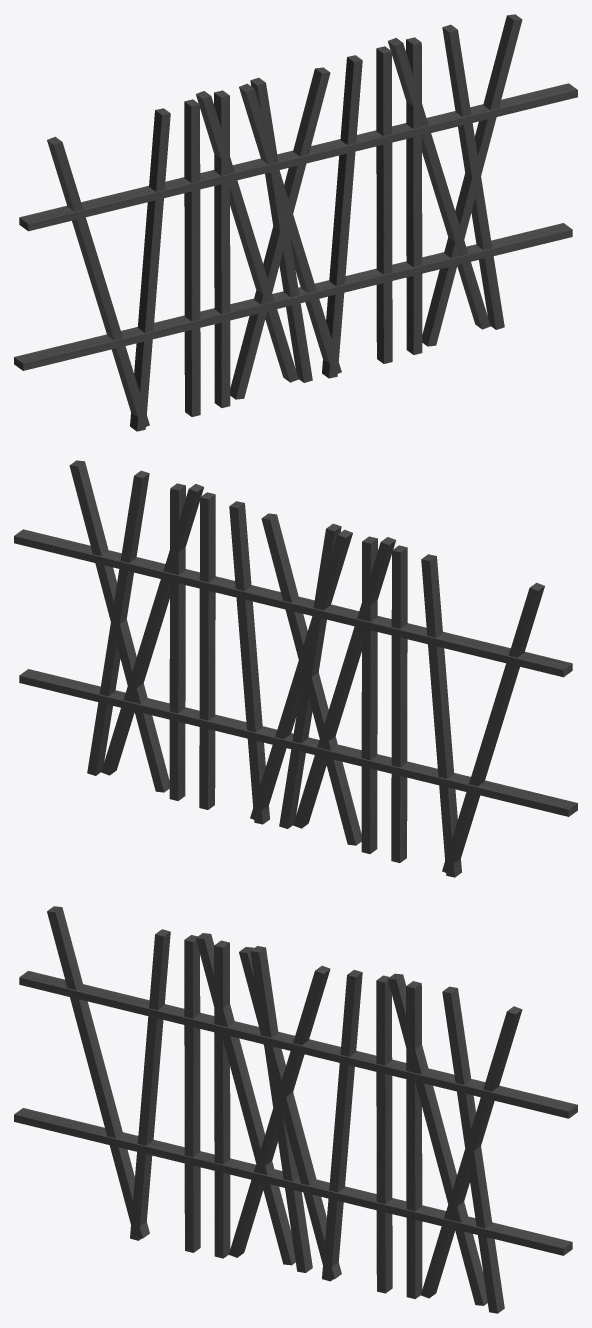
3 views of the same model, one above another, from view 1: azimuth 30°, elevation 25°; view 2: azimuth 150°, elevation 25°; view 3: azimuth 330°, elevation 25° (orthographic).
Parts seen in each view (by area): view 1: Cube.037; view 2: Cube.037; view 3: Cube.037.
Boxes of the visible parts, x1,y1,x2,y2 form: Cube.037: (14,14,577,431); Cube.037: (14,460,577,877); Cube.037: (14,906,577,1313).
Size of the model in its own units: 425 by 237 by 12.18.
